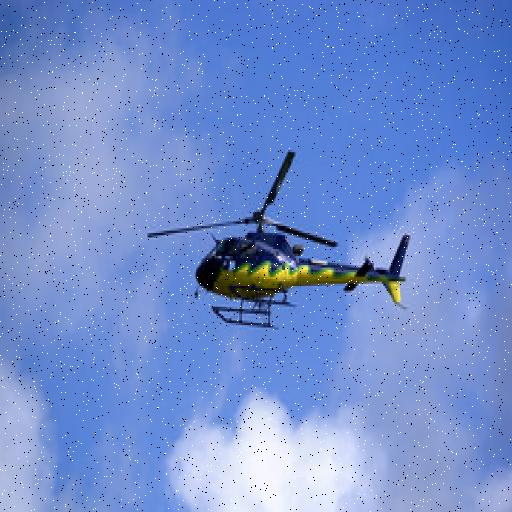helicopter: (161, 172, 417, 329)
